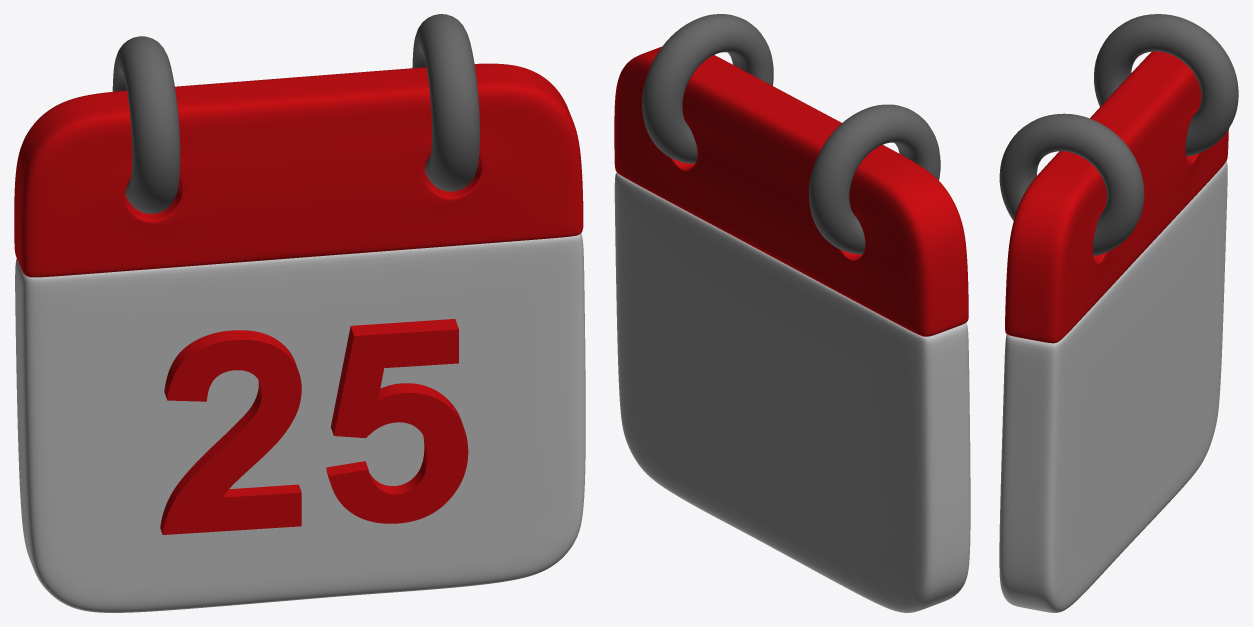
File: calendar.obj
3 renders of one model, left to right at view 1: azimuth 30°, elevation 25°; view 2: azimuth 150°, elevation 25°; view 3: azimuth 270°, elevation 25°, orthographic. The views are drawn at different scales.
Parts seen in each view (by area): view 1: Plane.001, Plane.002, Text.001, Cylinder.001_Cylinder.011, Cylinder.002_Cylinder.008; view 2: Plane.001, Plane.002, Cylinder.001_Cylinder.011, Cylinder.002_Cylinder.008; view 3: Plane.001, Plane.002, Cylinder.002_Cylinder.008, Cylinder.001_Cylinder.011.
Part boxes in pixels (x1=…): Plane.001: x1=15, y1=233, x2=585, y2=612; Plane.002: x1=14, y1=63, x2=583, y2=277; Text.001: x1=160, y1=319, x2=468, y2=534; Cylinder.001_Cylinder.011: x1=112, y1=36, x2=180, y2=213; Cylinder.002_Cylinder.008: x1=412, y1=14, x2=479, y2=191; Plane.001: x1=614, y1=173, x2=970, y2=612; Plane.002: x1=614, y1=46, x2=968, y2=336; Cylinder.001_Cylinder.011: x1=809, y1=104, x2=940, y2=254; Cylinder.002_Cylinder.008: x1=642, y1=14, x2=773, y2=163; Plane.001: x1=999, y1=161, x2=1227, y2=612; Plane.002: x1=1005, y1=51, x2=1228, y2=343; Cylinder.002_Cylinder.008: x1=999, y1=113, x2=1144, y2=256; Cylinder.001_Cylinder.011: x1=1094, y1=14, x2=1238, y2=156.
Size of the model in its own units: 2.6 by 2.9 by 1.32.
